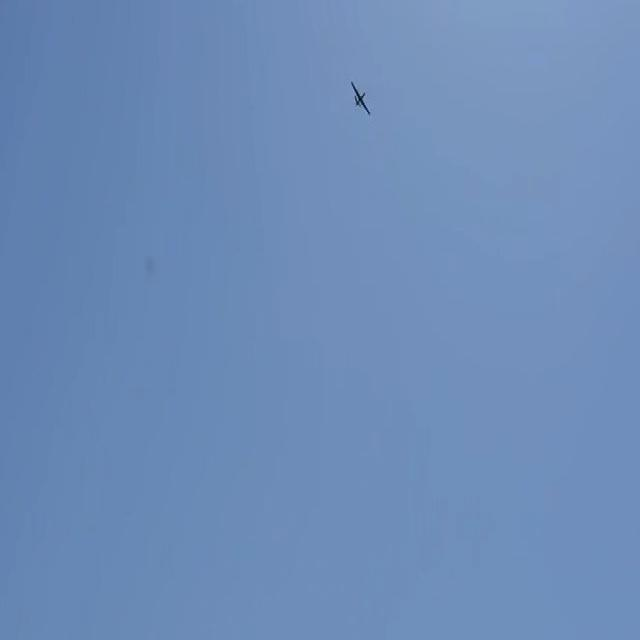iha: (351, 18, 369, 50), (352, 18, 369, 50)
